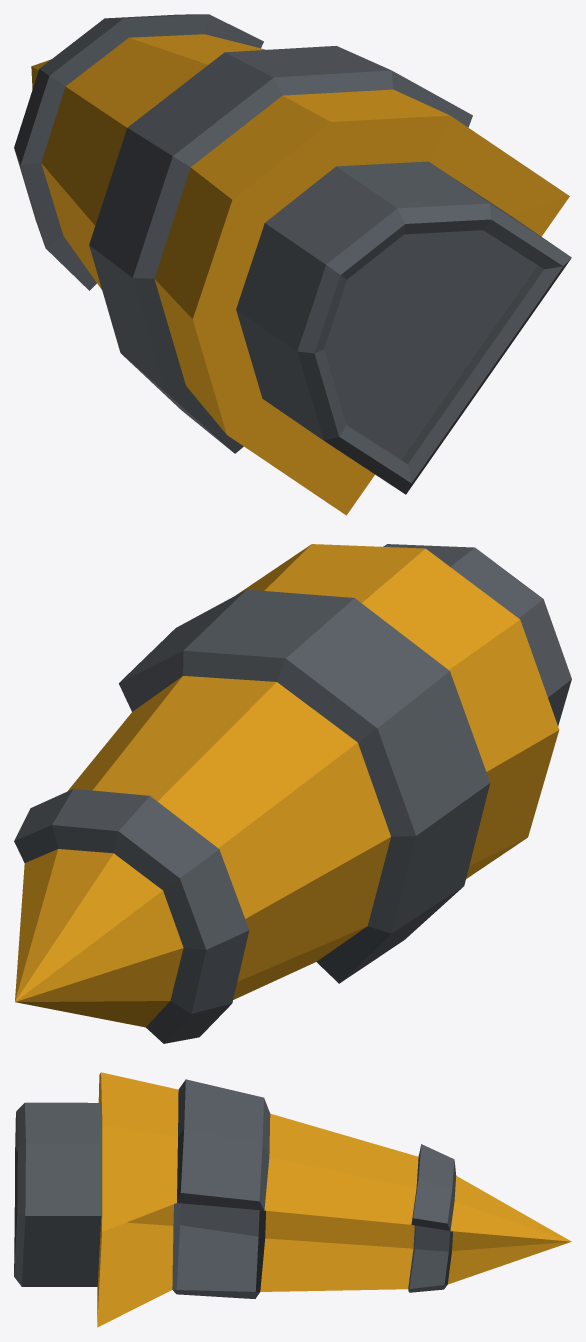
The model's file is Dropship_03_Booster_Yellow.fbx.
3 views of the same model, one above another, from view 1: azimuth 30°, elevation 25°; view 2: azimuth 150°, elevation 25°; view 3: azimuth 270°, elevation 25° (orthographic). The views are drawn at different scales.
Visible parts, largest first — view 1: Dropship_03_Booster_Yellow; view 2: Dropship_03_Booster_Yellow; view 3: Dropship_03_Booster_Yellow.
Part boxes in pixels (x1,y1,x2,y2): Dropship_03_Booster_Yellow: [14, 14, 571, 515]; Dropship_03_Booster_Yellow: [14, 544, 571, 1043]; Dropship_03_Booster_Yellow: [14, 1072, 571, 1327].
Bounding box in the file's own units: 64.13 × 63.53 × 128.
Materials: 1 (1 with a texture image).
